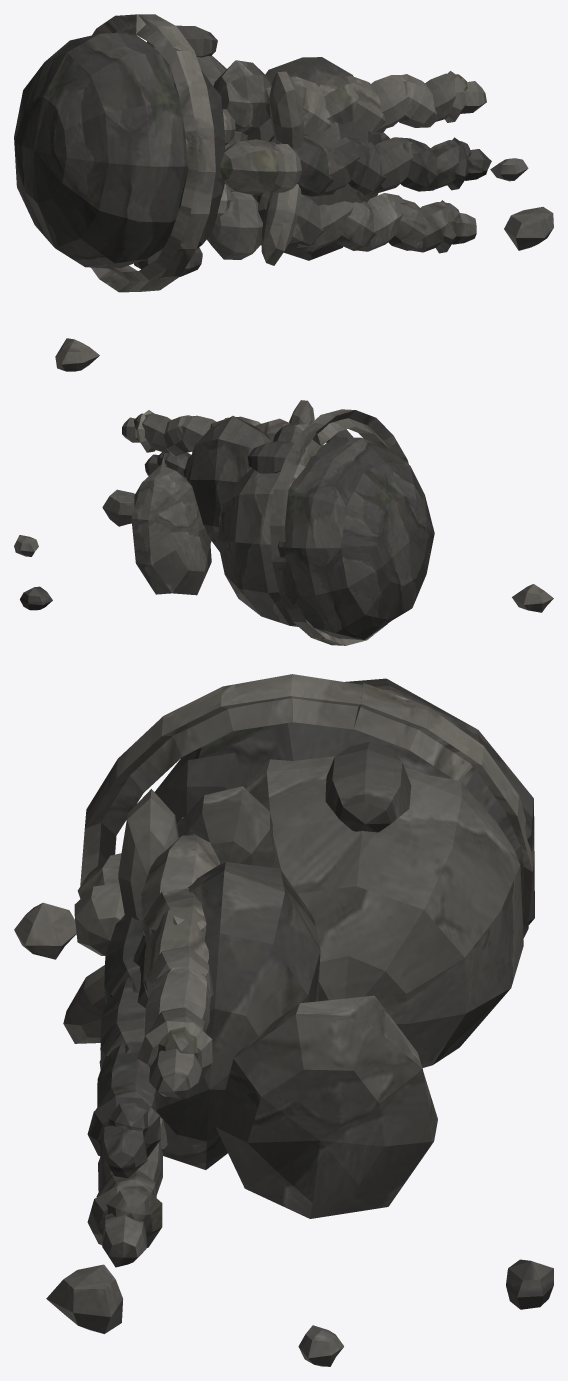
The model's file is junk_statue_head.glb.
3 views of the same model, one above another, from view 1: azimuth 30°, elevation 25°; view 2: azimuth 150°, elevation 25°; view 3: azimuth 270°, elevation 25° (orthographic). The views are drawn at different scales.
Visible parts, largest first — view 1: model; view 2: model; view 3: model.
Boxes of the visible parts, <box> form: model: <box>14,14,553,371</box>; model: <box>14,400,553,645</box>; model: <box>14,674,553,1366</box>.
Bounding box in the file's own units: 0.8949 × 0.3903 × 0.4648.
Materials: 3 (3 with a texture image).
